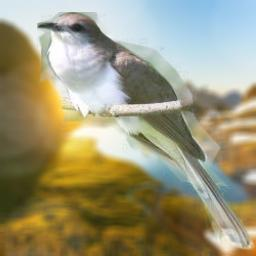Cuckoo: (37, 12, 255, 250)
